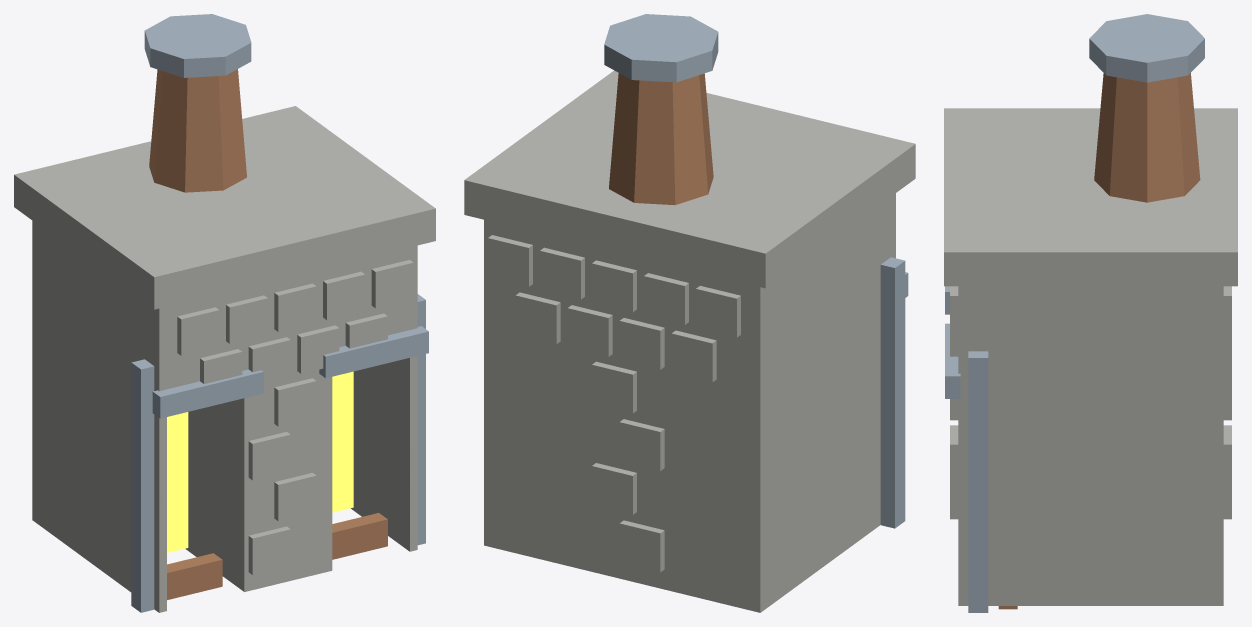
The model's file is wipe-day-survival-island-large-furnace-1bab3f79__27457.glb.
3 renders of one model, left to right at view 1: azimuth 30°, elevation 25°; view 2: azimuth 150°, elevation 25°; view 3: azimuth 270°, elevation 25°, orthographic. The views are drawn at different scales.
Parts seen in each view (by area): view 1: large-furnace; view 2: large-furnace; view 3: large-furnace.
Part boxes in pixels (x1,y1,x2,y2): large-furnace: (14,14,435,612); large-furnace: (464,14,915,612); large-furnace: (944,14,1237,612).
Size of the model in its own units: 1.71 by 2.79 by 1.46.
